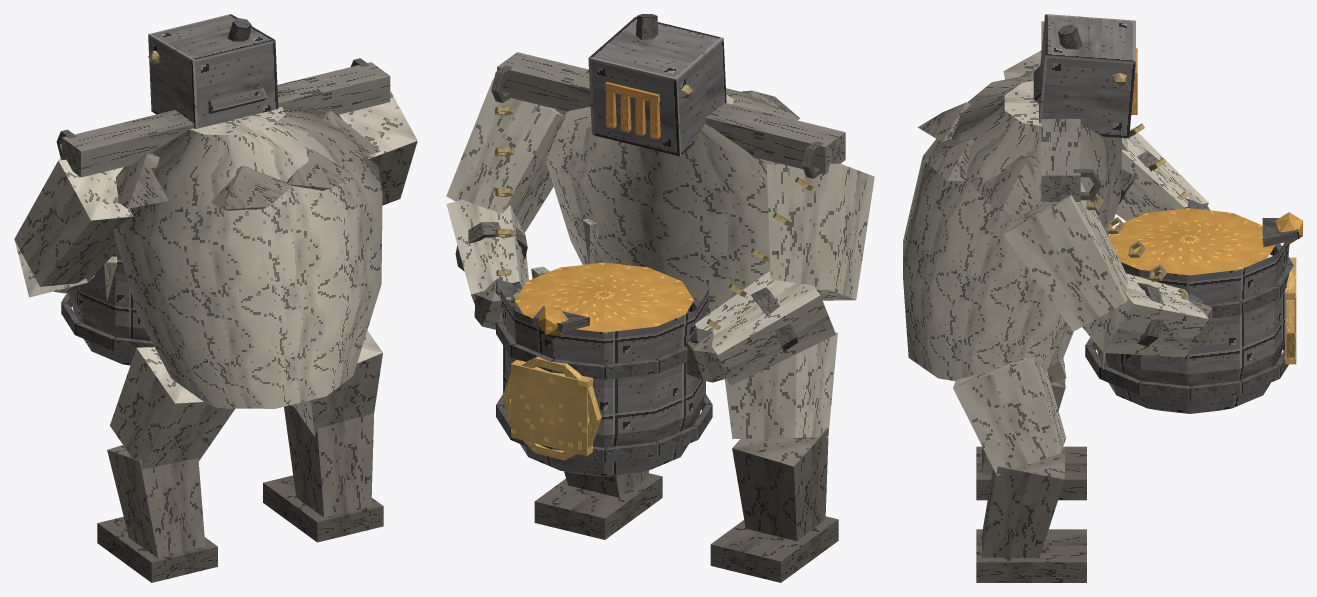
File: enemy_smelter.gltf
3 renders of one model, left to right at view 1: azimuth 30°, elevation 25°; view 2: azimuth 150°, elevation 25°; view 3: azimuth 270°, elevation 25°, orthographic. The views are drawn at different scales.
Visible parts, largest first — view 1: body, head, shin_l, shin_r, arm_l, thigh_l, crucible, arm_r, thigh_r, fore_l; view 2: body, crucible, shin_l, head, arm_l, fore_l, arm_r, slag, thigh_l, hatch, fore_r, shin_r (+1 smaller); view 3: body, crucible, shin_r, head, arm_r, thigh_r, slag, fore_r, fore_l, shin_l, hatch, arm_l.
Boxes of the visible parts, x1,y1,x2,y2 form: body: (56, 58, 390, 408); head: (148, 14, 278, 128); shin_l: (97, 445, 217, 582); shin_r: (263, 405, 383, 542); arm_l: (14, 159, 133, 286); thigh_l: (110, 347, 234, 470); crucible: (59, 158, 154, 365); arm_r: (339, 91, 417, 205); thigh_r: (292, 330, 382, 436); fore_l: (15, 241, 94, 297); body: (491, 52, 845, 314); crucible: (495, 106, 813, 476); shin_l: (710, 427, 838, 582); head: (588, 14, 726, 156); arm_l: (766, 163, 874, 300); fore_l: (686, 271, 835, 385); arm_r: (446, 79, 564, 232); slag: (515, 262, 693, 336); thigh_l: (724, 332, 837, 438); hatch: (502, 356, 601, 460); fore_r: (446, 200, 528, 329); shin_r: (534, 470, 662, 539); body: (903, 21, 1121, 380); crucible: (1085, 123, 1299, 413); shin_r: (976, 446, 1086, 582); head: (1033, 14, 1135, 138); arm_r: (1003, 182, 1128, 331); thigh_r: (953, 354, 1066, 475); slag: (1108, 208, 1302, 275); fore_r: (1082, 273, 1212, 357); fore_l: (1115, 128, 1209, 221); shin_l: (976, 363, 1086, 500); hatch: (1285, 257, 1296, 364); arm_l: (1003, 50, 1128, 151).
Size of the model in its own units: 2.61 by 3.43 by 2.45.
Materials: 14 (14 with a texture image).
